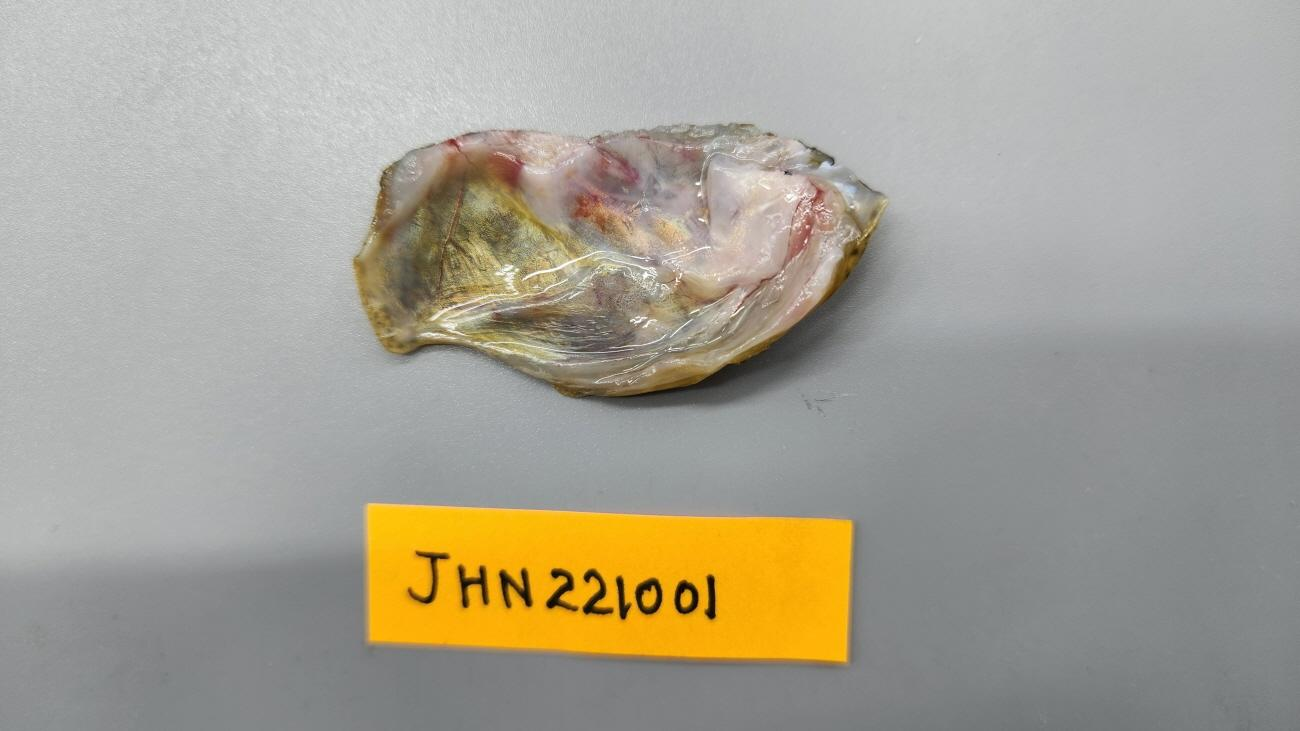POGCN: (353, 121, 890, 400)
